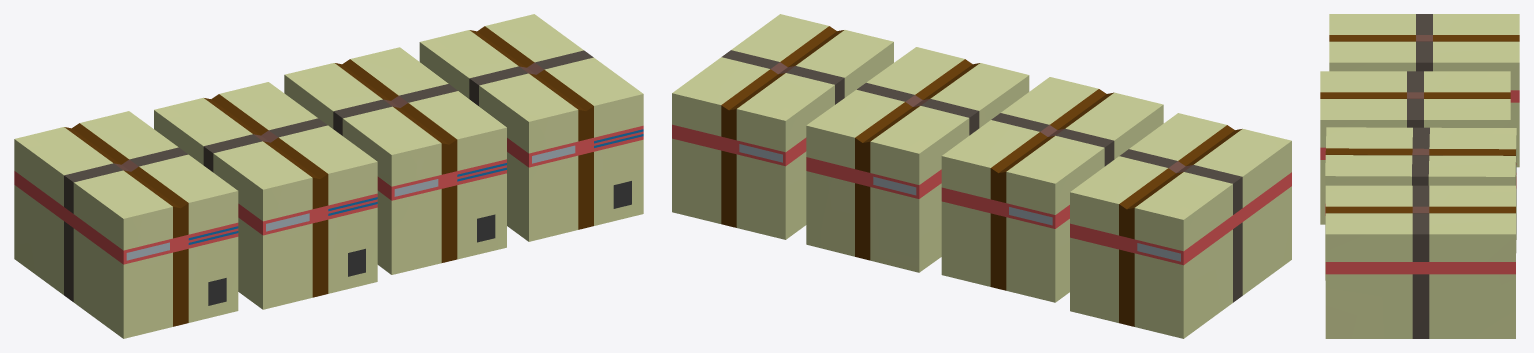
File: SM_BoxesSet_A.fbx
3 views of the same model, side by side, from view 1: azimuth 30°, elevation 25°; view 2: azimuth 150°, elevation 25°; view 3: azimuth 270°, elevation 25° (orthographic). The views are drawn at different scales.
Parts seen in each view (by area): view 1: SM_BoxesSet_A; view 2: SM_BoxesSet_A; view 3: SM_BoxesSet_A.
Part boxes in pixels (left/top/right/bottom): SM_BoxesSet_A: left=14, top=14, right=643, bottom=338; SM_BoxesSet_A: left=672, top=14, right=1291, bottom=338; SM_BoxesSet_A: left=1320, top=14, right=1519, bottom=338.
Bounding box in the file's own units: 278 × 61.57 × 106.
